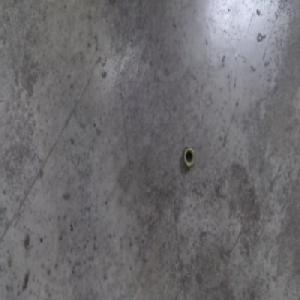Nut: (183, 145, 195, 169)
